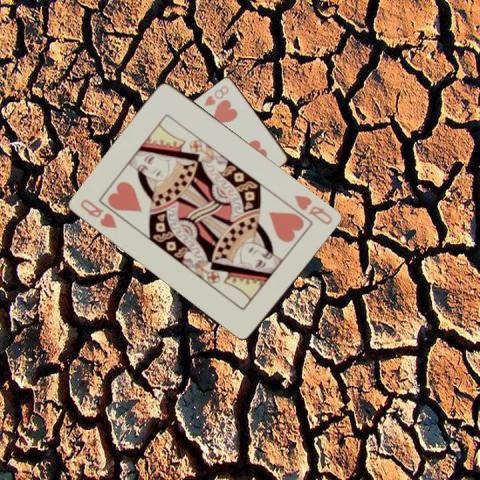8h: (201, 82, 230, 107)
Qh: (292, 192, 335, 226), (77, 196, 120, 230)
